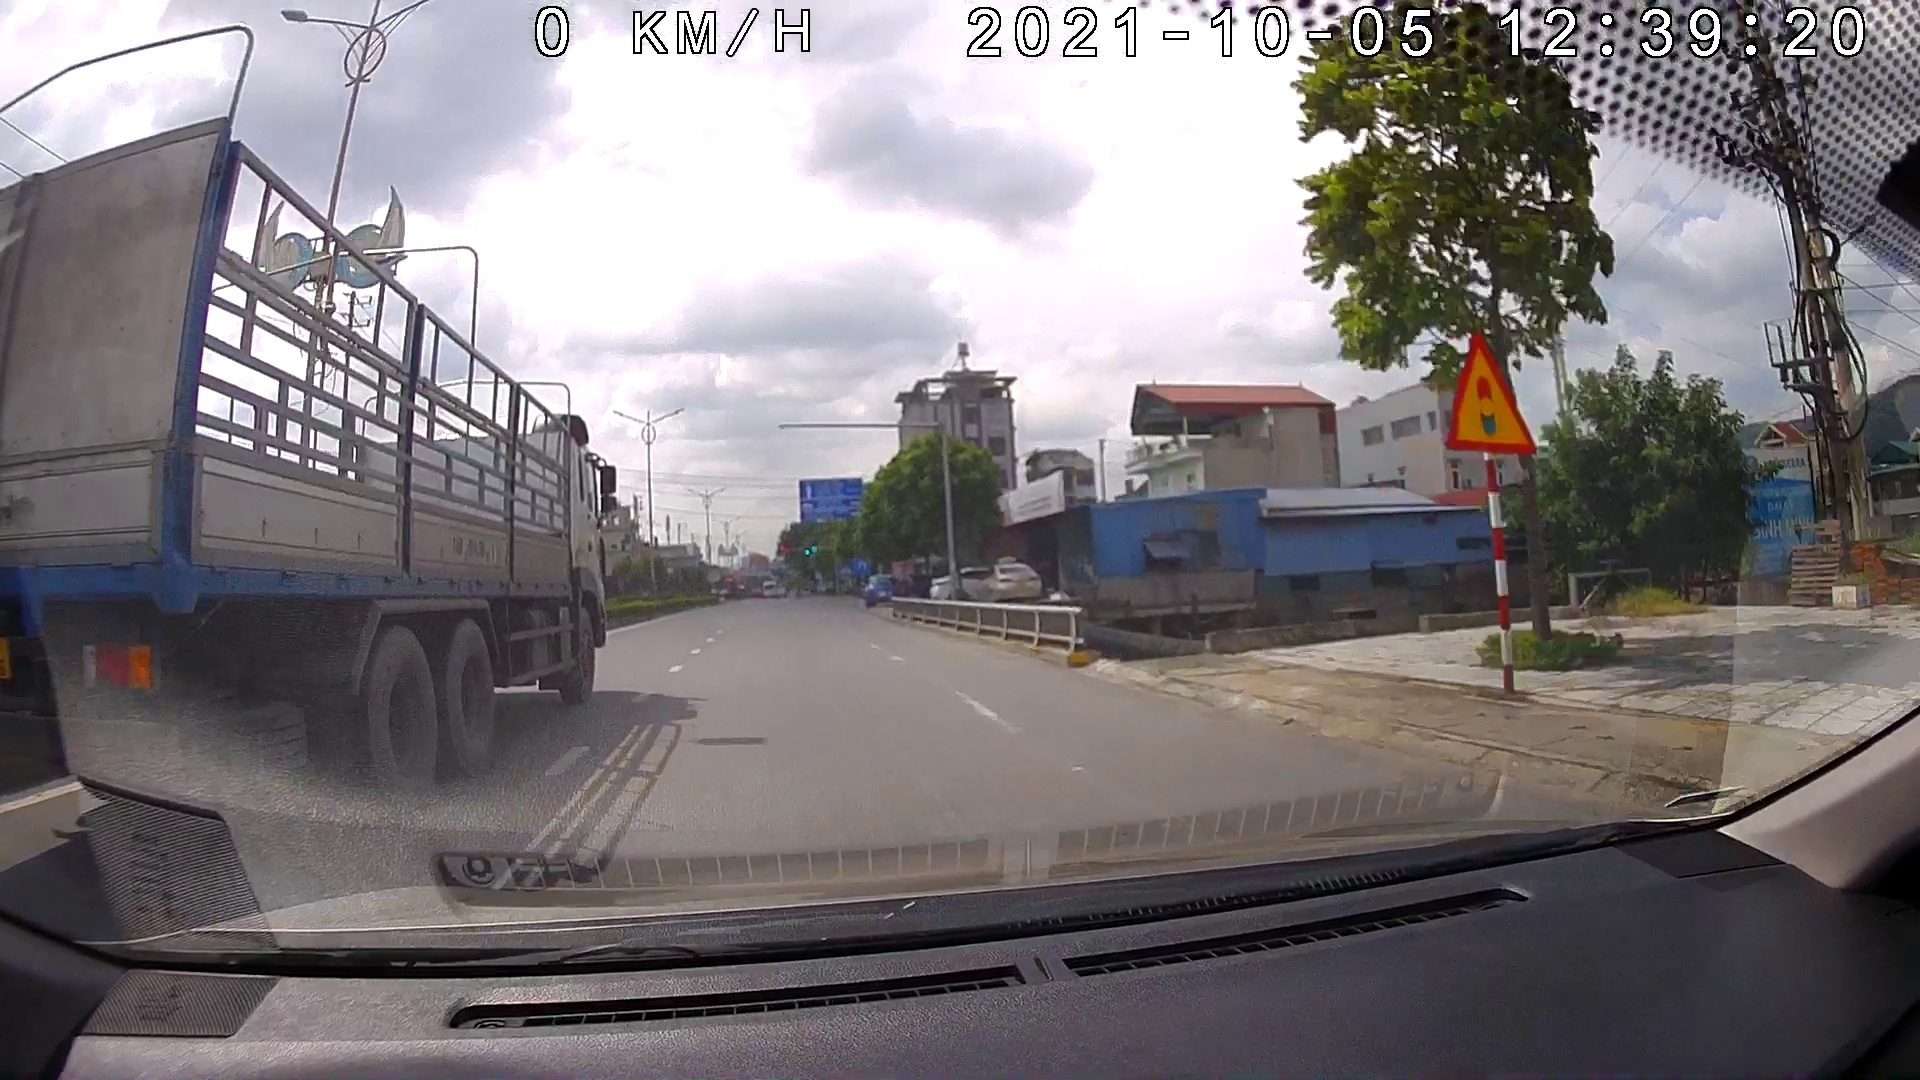Bien khac: (1440, 326, 1545, 462)
